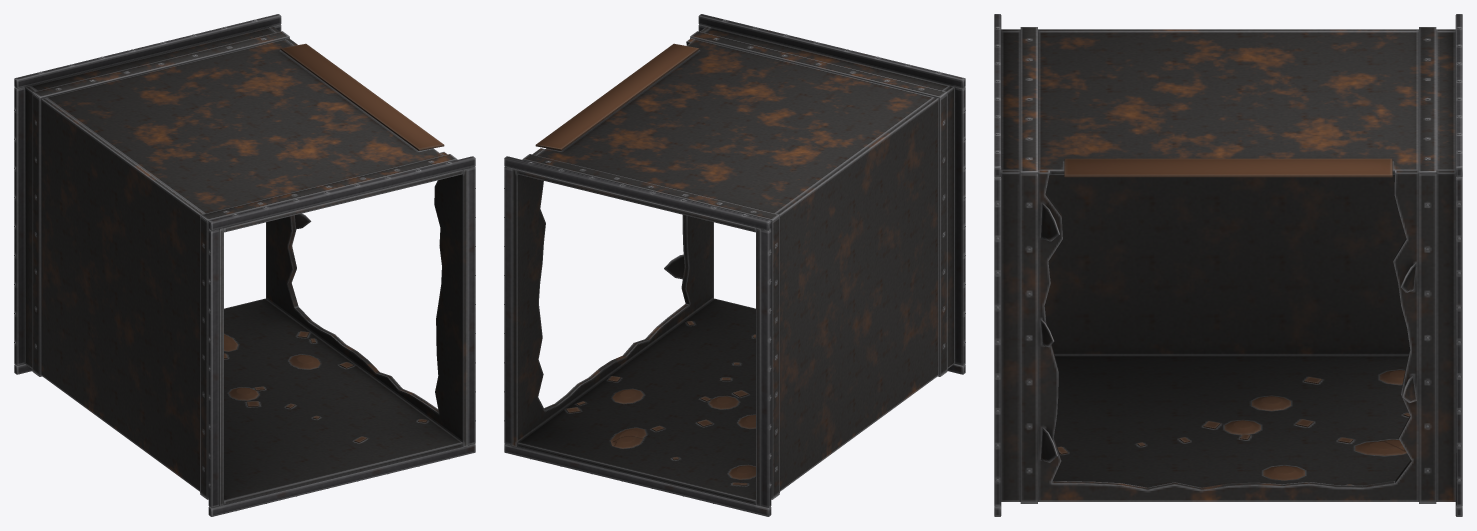
File: DuctDamaged.fbx
3 renders of one model, left to right at view 1: azimuth 30°, elevation 25°; view 2: azimuth 150°, elevation 25°; view 3: azimuth 270°, elevation 25°, orthographic. The views are drawn at different scales.
Visible parts, largest first — view 1: DuctDamaged; view 2: DuctDamaged; view 3: DuctDamaged.
Boxes of the visible parts, x1,y1,x2,y2 form: DuctDamaged: (14, 14, 475, 516); DuctDamaged: (504, 14, 965, 516); DuctDamaged: (994, 14, 1462, 516).
Bounding box in the file's own units: 653 × 665 × 800.
